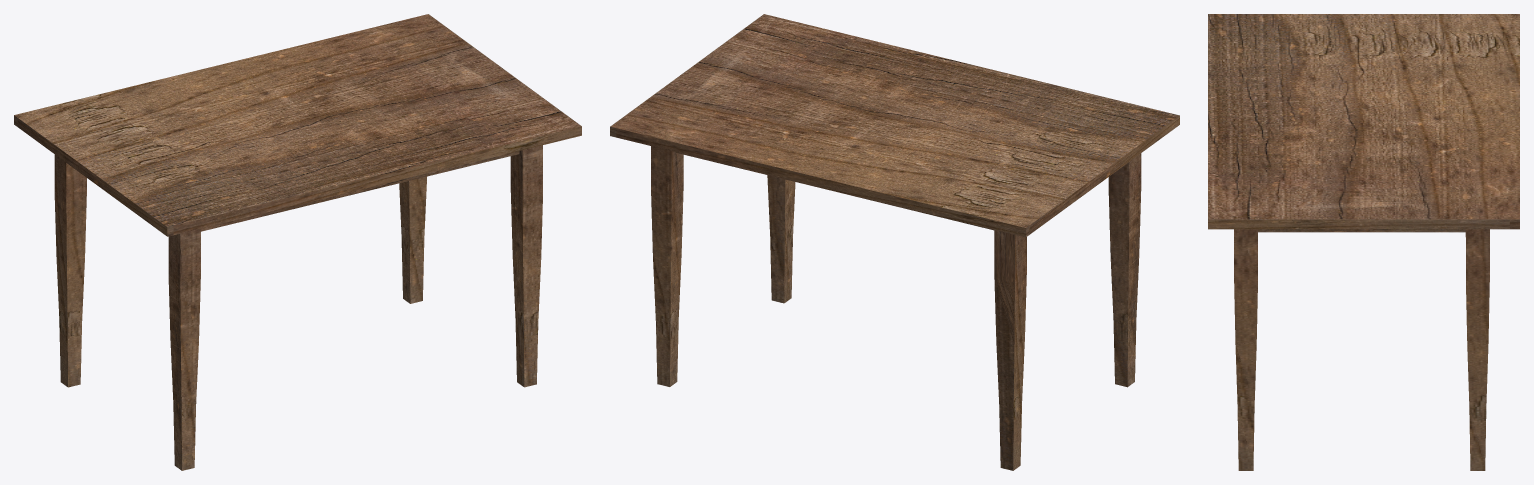
Rendered from Kärpänen_Pöytä.fbx.
The picture shows the model from 3 angles, left to right: view 1: azimuth 30°, elevation 25°; view 2: azimuth 150°, elevation 25°; view 3: azimuth 270°, elevation 25°; orthographic projection.
Parts seen in each view (by area): view 1: Cube.004; view 2: Cube.004; view 3: Cube.004.
Boxes of the visible parts, bbox=[...] form: Cube.004: bbox=[14, 14, 581, 470]; Cube.004: bbox=[610, 14, 1179, 470]; Cube.004: bbox=[1208, 14, 1519, 470].
Bounding box in the file's own units: 3139 × 1895 × 2012.
Materials: 1 (1 with a texture image).
